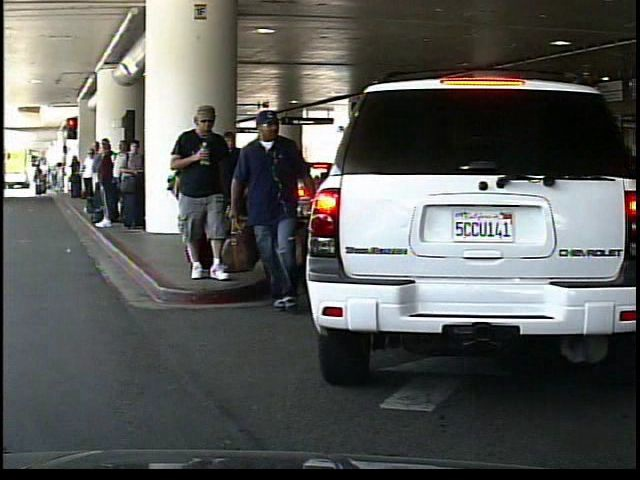person: (234, 106, 311, 317), (171, 106, 236, 281), (217, 136, 257, 246)
